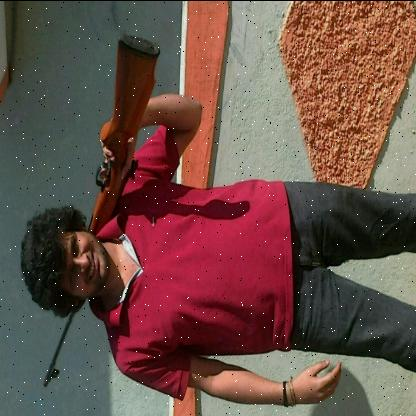rifle: (40, 28, 164, 390)
